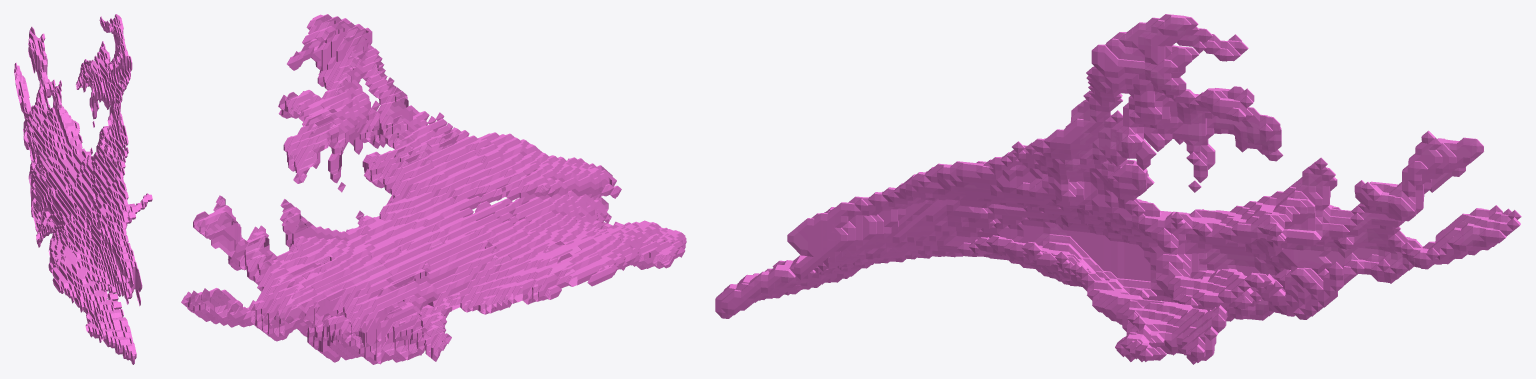
File: SVV_BWM-VR04.gltf
3 views of the same model, side by side, from view 1: azimuth 30°, elevation 25°; view 2: azimuth 150°, elevation 25°; view 3: azimuth 270°, elevation 25° (orthographic). The views are drawn at different scales.
Parts seen in each view (by area): view 1: BWM-VR04; view 2: BWM-VR04; view 3: BWM-VR04.
Boxes of the visible parts, box(x1,y1,x2,y2) form: BWM-VR04: box(14, 14, 152, 364); BWM-VR04: box(181, 14, 686, 364); BWM-VR04: box(715, 14, 1521, 364).
Bounding box in the file's own units: 31025 × 42208 × 77074.
